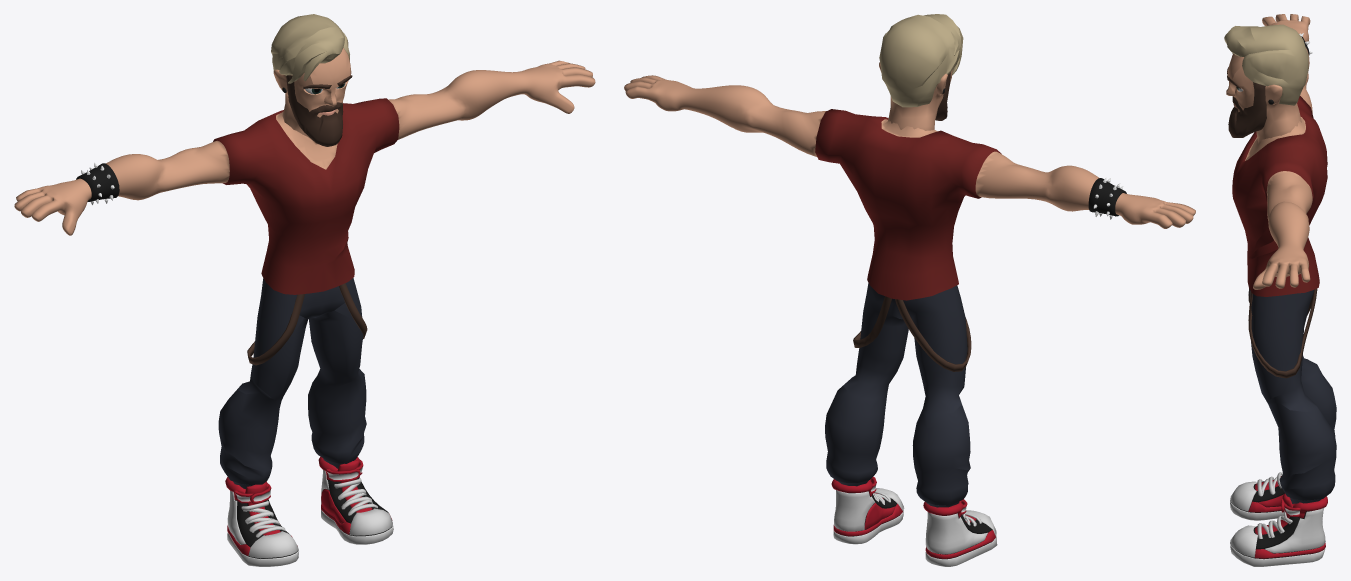
File: Character_1.fbx
3 renders of one model, left to right at view 1: azimuth 30°, elevation 25°; view 2: azimuth 150°, elevation 25°; view 3: azimuth 270°, elevation 25°, orthographic. The views are drawn at different scales.
Parts seen in each view (by area): view 1: Torso_1, Legs_1, Head_1, Hair_1; view 2: Torso_1, Legs_1, Hair_1, Head_1; view 3: Legs_1, Torso_1, Hair_1, Head_1.
Part boxes in pixels (<box>): Torso_1: <box>14,60,595,294</box>; Legs_1: <box>218,278,393,566</box>; Head_1: <box>273,48,352,146</box>; Hair_1: <box>271,14,349,83</box>; Torso_1: <box>624,75,1195,300</box>; Legs_1: <box>825,283,997,566</box>; Hair_1: <box>879,14,963,107</box>; Head_1: <box>879,62,952,130</box>; Legs_1: <box>1230,288,1336,566</box>; Torso_1: <box>1232,14,1327,296</box>; Hair_1: <box>1224,24,1308,105</box>; Head_1: <box>1226,54,1301,143</box>.
Bounding box in the file's own units: 242 × 211 × 42.52.
